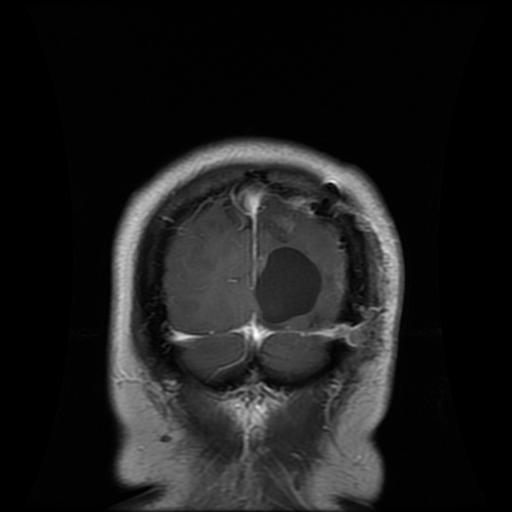Gliomia_tumour: (255, 245, 323, 321)
